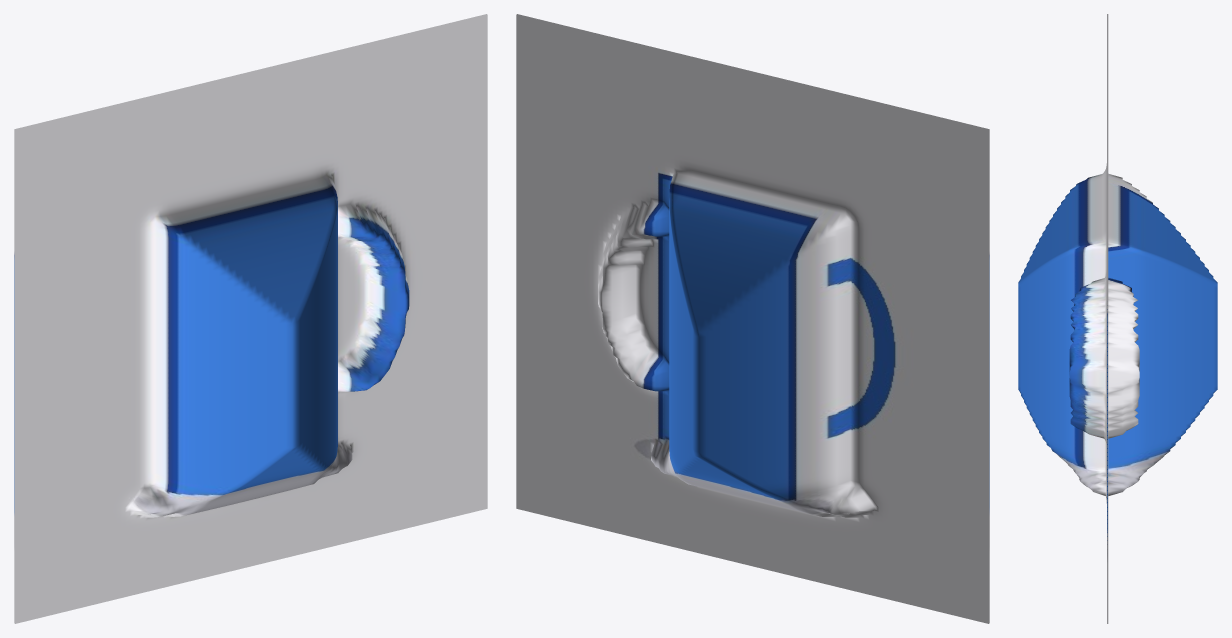
Rendered from mug_model.glb.
3 renders of one model, left to right at view 1: azimuth 30°, elevation 25°; view 2: azimuth 150°, elevation 25°; view 3: azimuth 270°, elevation 25°, orthographic. The views are drawn at different scales.
Visible parts, largest first — view 1: Reconstructed3DModel; view 2: Reconstructed3DModel; view 3: Reconstructed3DModel.
Boxes of the visible parts, <box> form: Reconstructed3DModel: <box>14,14,487,623</box>; Reconstructed3DModel: <box>516,14,989,623</box>; Reconstructed3DModel: <box>1018,14,1217,623</box>.
Bounding box in the file's own units: 3 × 3 × 1.3.
Materials: 1 (1 with a texture image).
